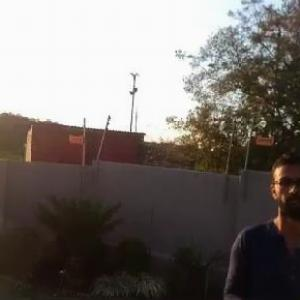follow: (217, 144, 299, 299)
